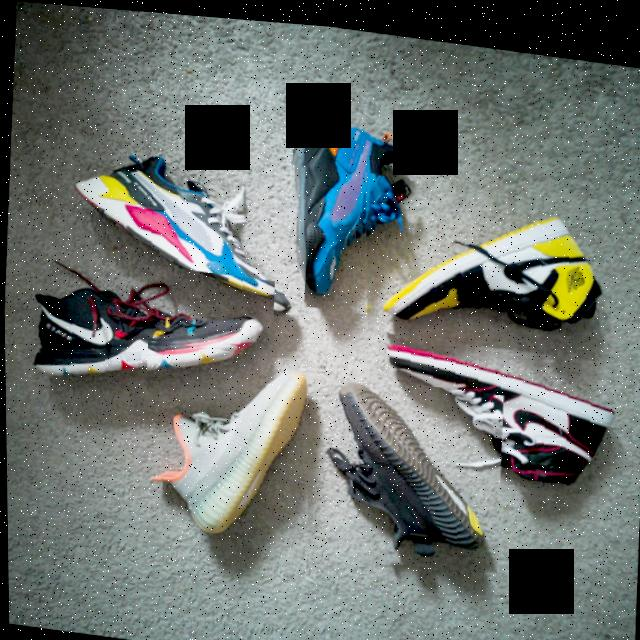shoe: (50, 122, 311, 315), (357, 166, 617, 353), (369, 324, 636, 491), (15, 247, 276, 417), (296, 364, 505, 573), (137, 338, 327, 559), (265, 85, 427, 315)
